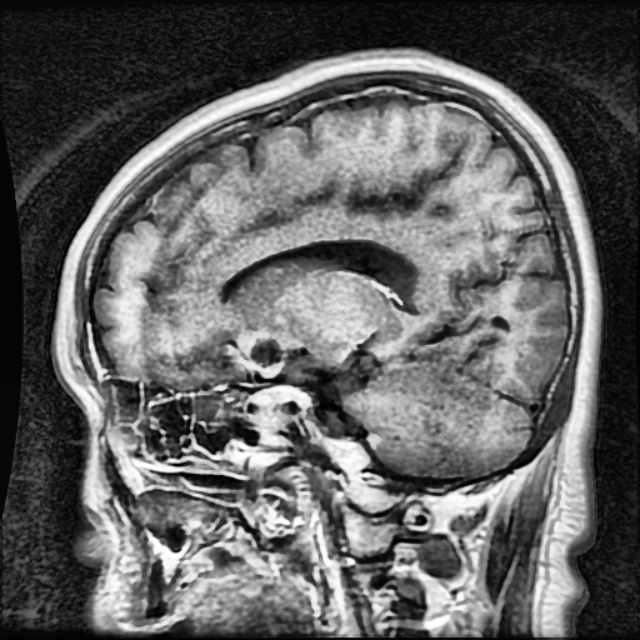Pituitary: (243, 329, 289, 377)
